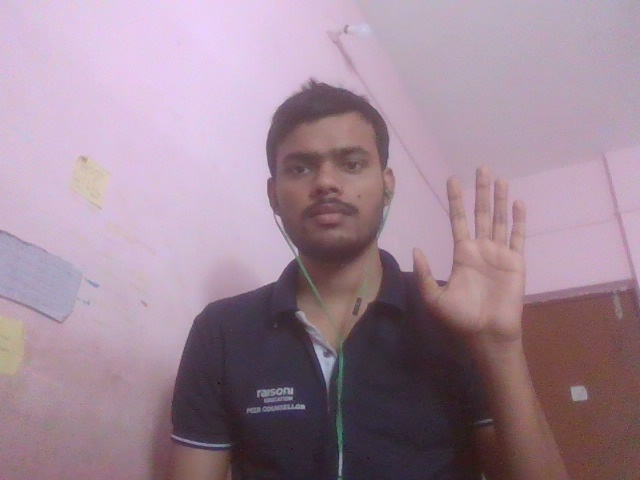Hello: (393, 145, 603, 372)
